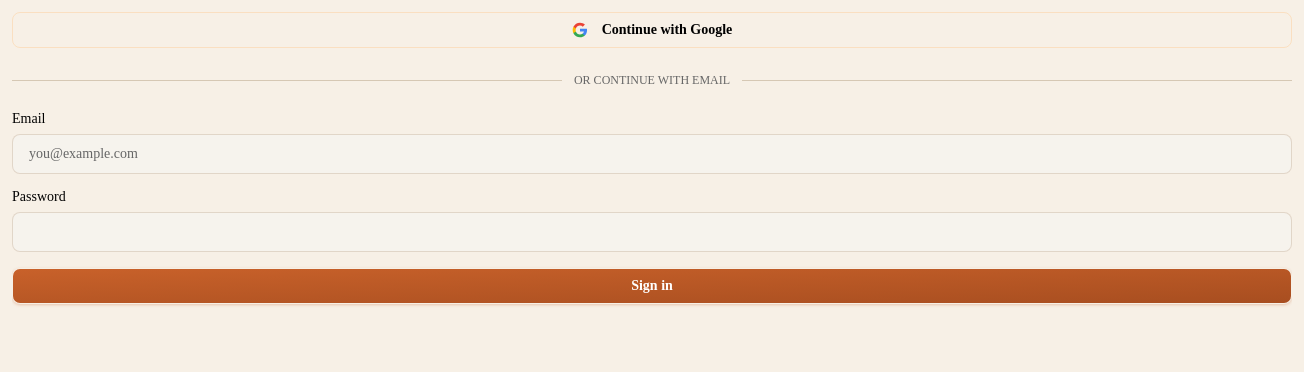
Test: LoginForm › clears email error on input change
The image size is (1304, 372).
Click the button "Sign in" at (652, 286), box x1=12 y1=268 x2=1292 y2=304
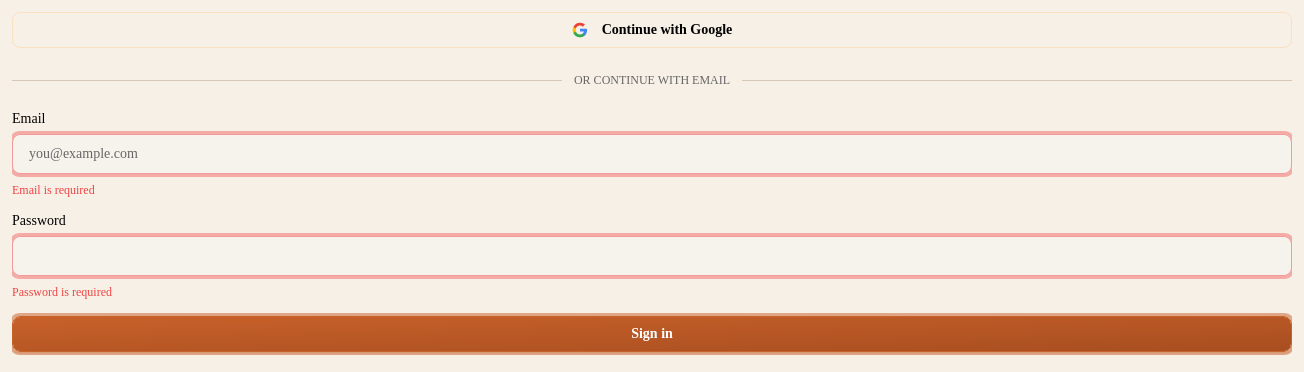
Expected: the text "Email is required" is shown, x1=12 y1=183 x2=95 y2=197
Type "a" into the field labelled "Email" at (652, 154), box x1=12 y1=134 x2=1292 y2=174
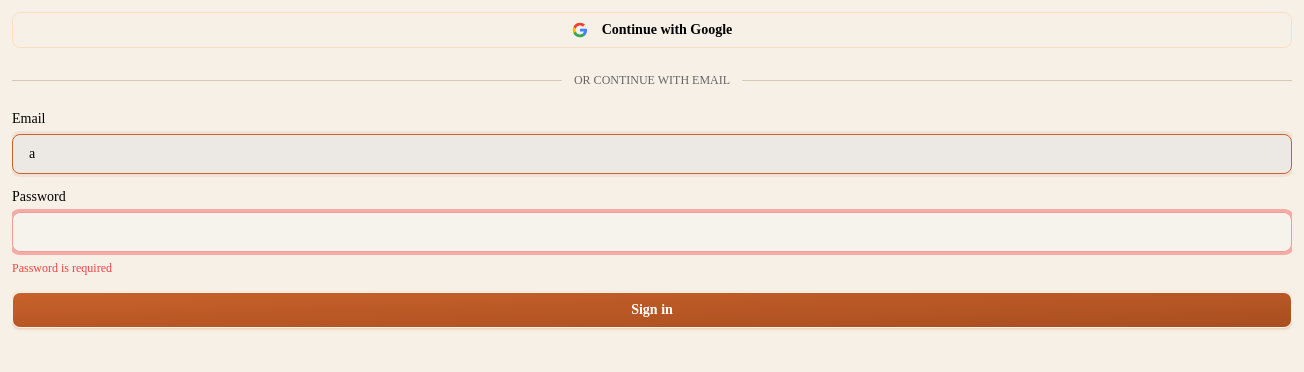
Expected: the text "Email is required" is gone
